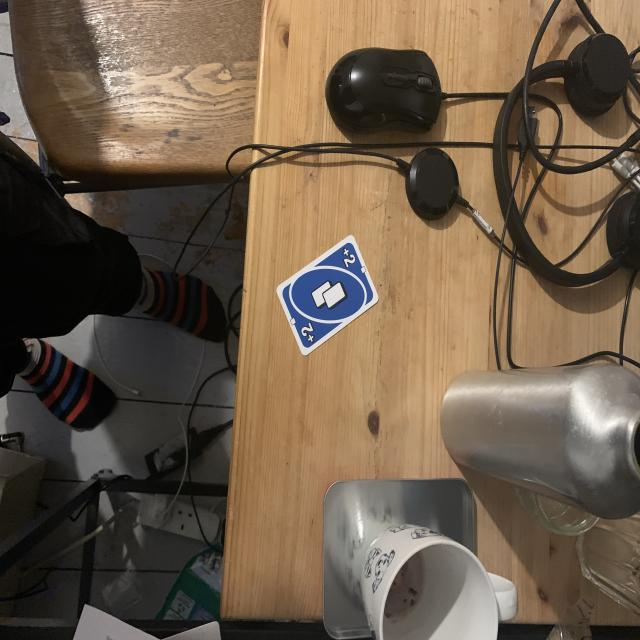lblue-20: (339, 244, 359, 271)
